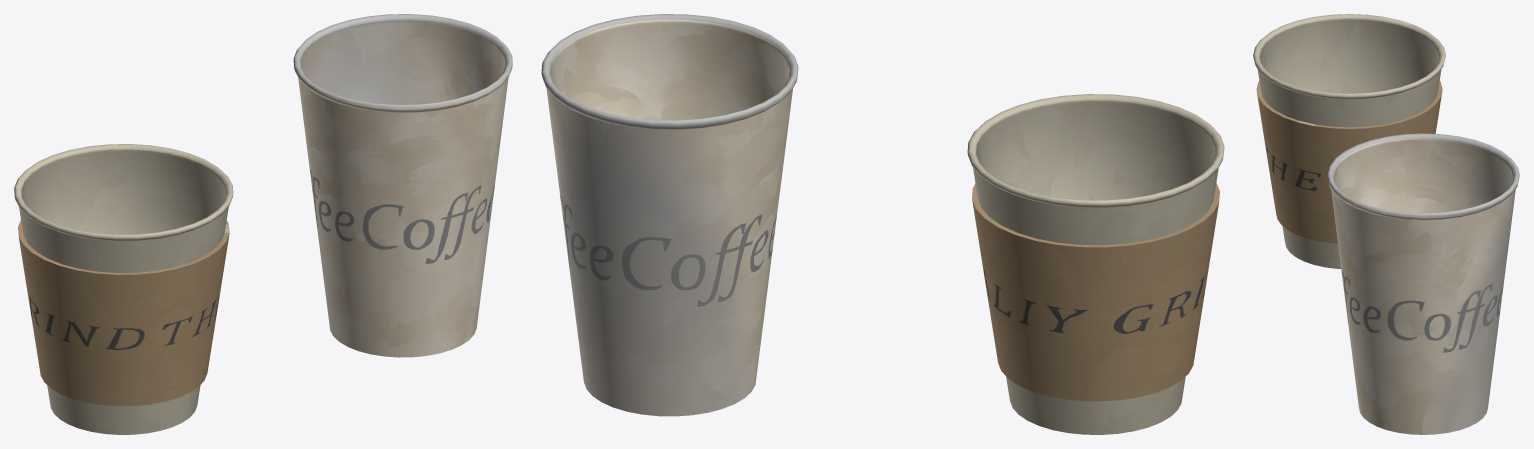
The model's file is disposablecup.glb.
The picture shows the model from 3 angles, left to right: view 1: azimuth 30°, elevation 25°; view 2: azimuth 150°, elevation 25°; view 3: azimuth 270°, elevation 25°; orthographic projection. The views are drawn at different scales.
Visible parts, largest first — view 1: cup.016, cup.015; view 2: cup.016, cup.015; view 3: cup.016, cup.015.
Part boxes in pixels (x1,y1,x2,y2): cup.016: (293,14,512,357); cup.015: (14,144,233,434); cup.016: (541,14,798,416); cup.015: (967,94,1224,434); cup.016: (1327,133,1519,434); cup.015: (1253,14,1445,268).
Size of the model in its own units: 0.2441 by 0.1216 by 0.1256.
2 materials, 2 textured.
